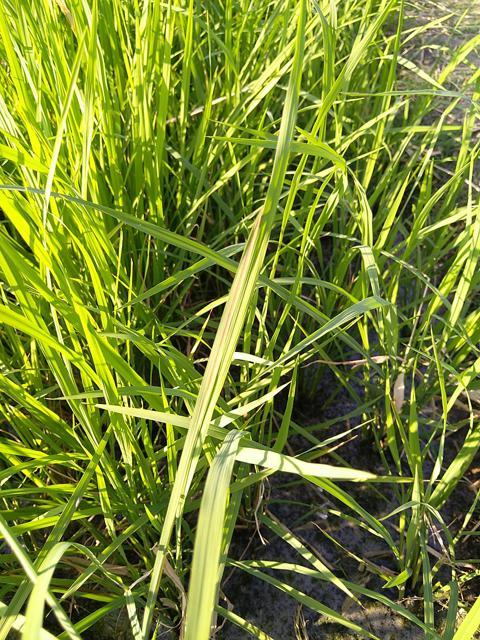Leaf Streak: (159, 54, 297, 553)
